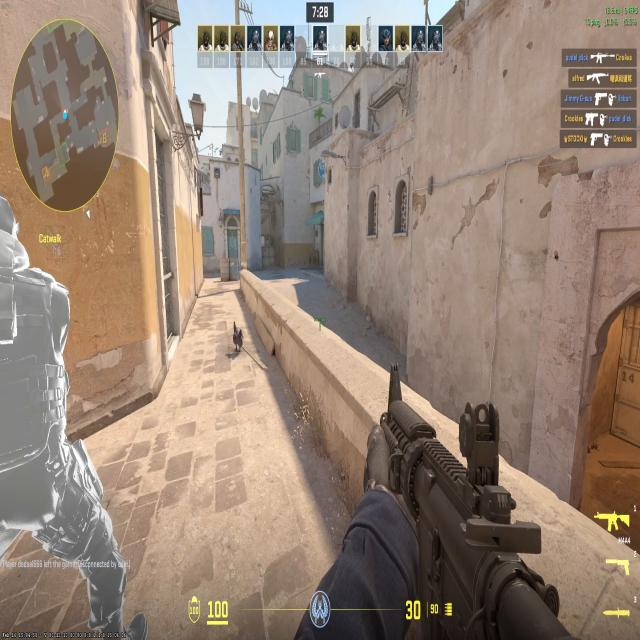player: (0, 176, 152, 640)
